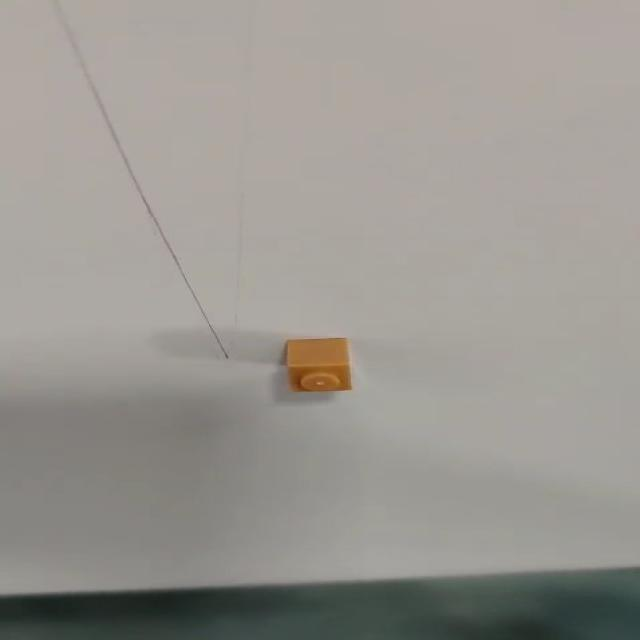C1x1x1: (283, 336, 352, 392)
